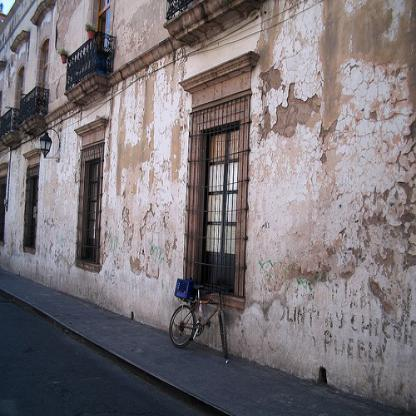bicycle: (169, 275, 227, 360)
